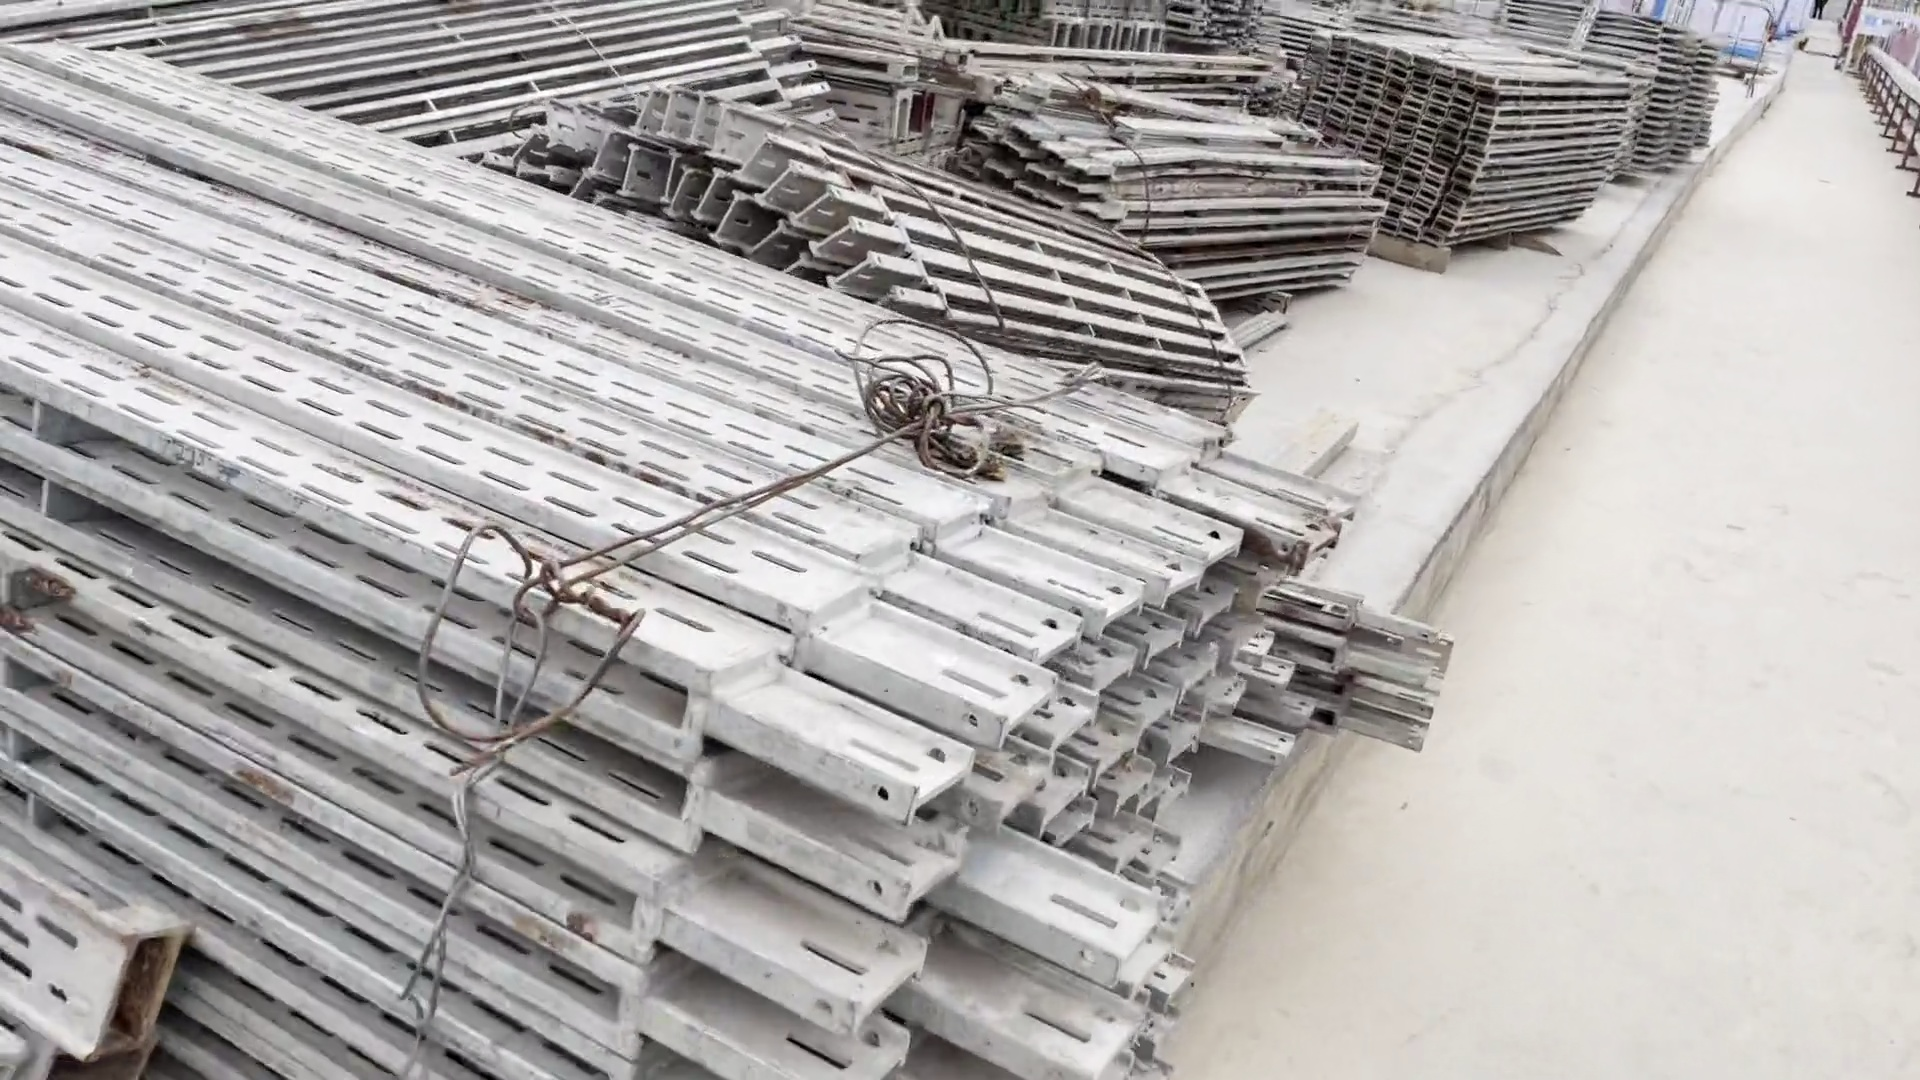fence: (1672, 3, 1791, 96)
slogan: (1846, 5, 1920, 47)
